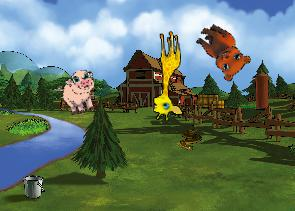bear: (185, 19, 256, 85)
giraffe: (148, 30, 183, 121)
pig: (55, 67, 104, 118)
